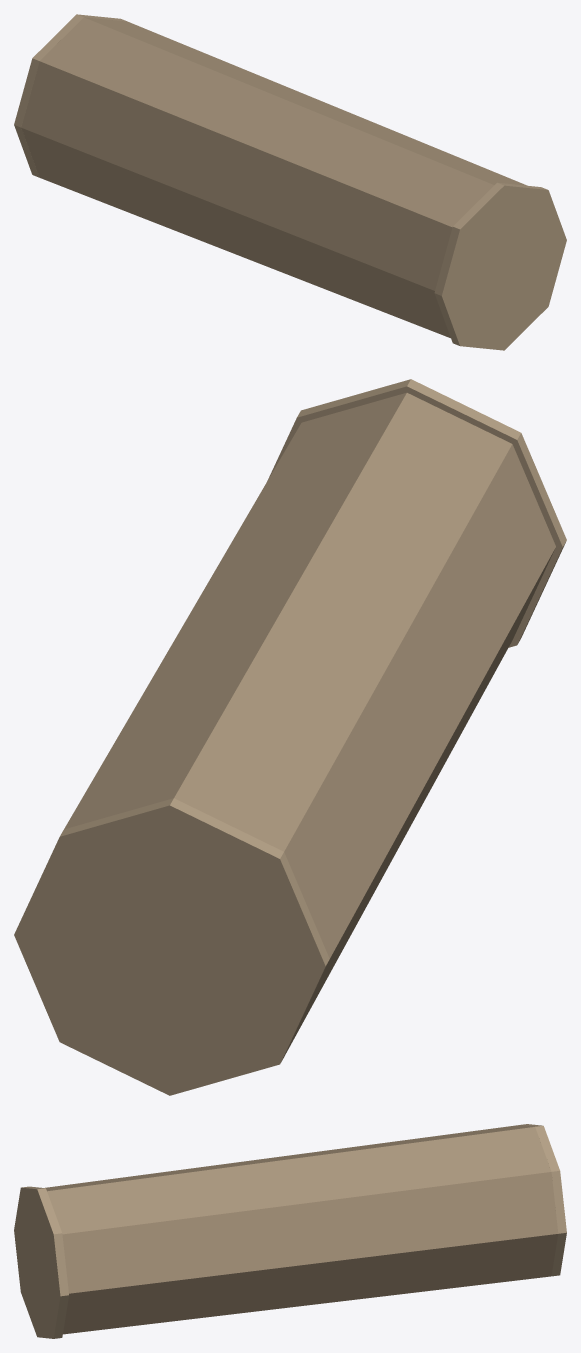
Rendered from nature_log_02.glb.
3 views of the same model, one above another, from view 1: azimuth 30°, elevation 25°; view 2: azimuth 150°, elevation 25°; view 3: azimuth 270°, elevation 25° (orthographic). The views are drawn at different scales.
Visible parts, largest first — view 1: geometry_0; view 2: geometry_0; view 3: geometry_0.
Boxes of the visible parts, left/top/right/bottom form: geometry_0: left=14, top=14, right=566, bottom=350; geometry_0: left=14, top=379, right=566, bottom=1095; geometry_0: left=14, top=1124, right=566, bottom=1338.
Size of the model in its own units: 1.02 by 0.5436 by 1.84.
